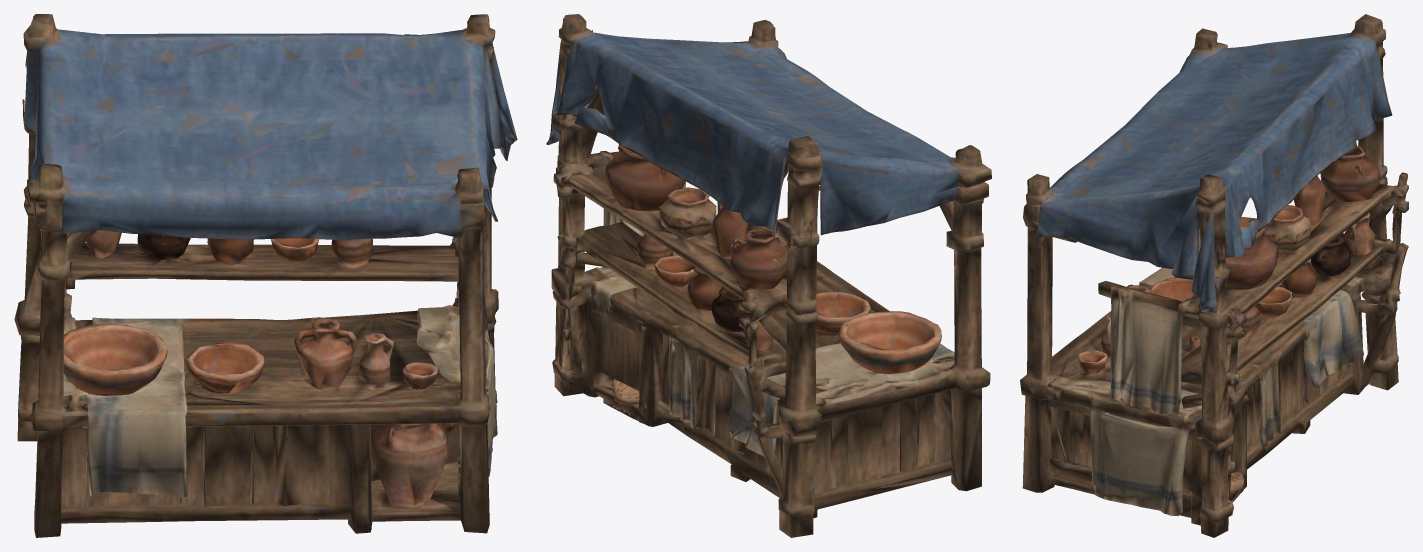
The model's file is pottery-market-stall-pixal3d.glb.
3 renders of one model, left to right at view 1: azimuth 30°, elevation 25°; view 2: azimuth 150°, elevation 25°; view 3: azimuth 270°, elevation 25°, orthographic. The views are drawn at different scales.
Visible parts, largest first — view 1: geometry_0; view 2: geometry_0; view 3: geometry_0.
Boxes of the visible parts, x1=… form: geometry_0: x1=14, y1=14, x2=517, y2=537; geometry_0: x1=546, y1=14, x2=991, y2=537; geometry_0: x1=1020, y1=14, x2=1408, y2=537.
Bounding box in the file's own units: 3.32 × 2.8 × 2.69.
1 material, 1 textured.
